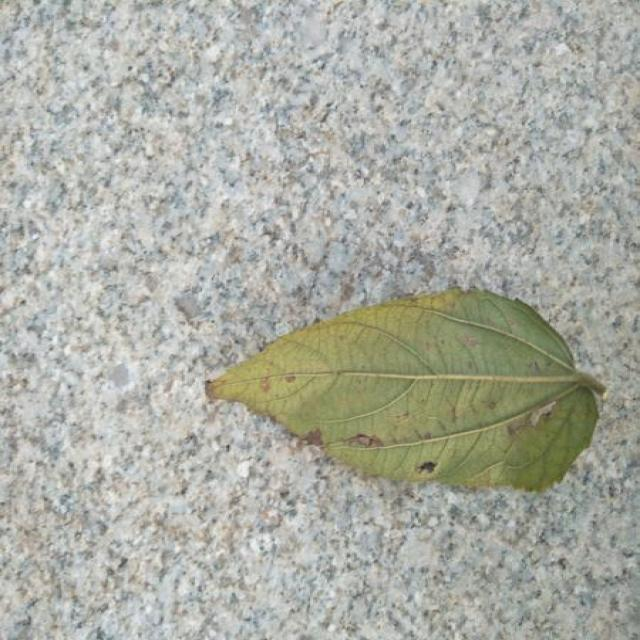gasagase: (207, 290, 605, 489)
